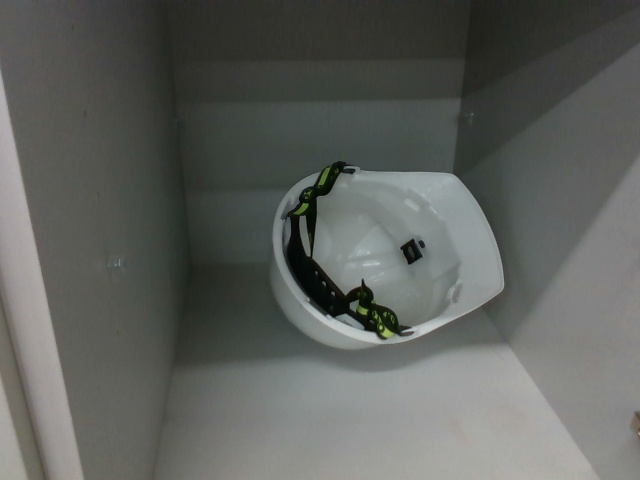helmet: (267, 162, 516, 360)
